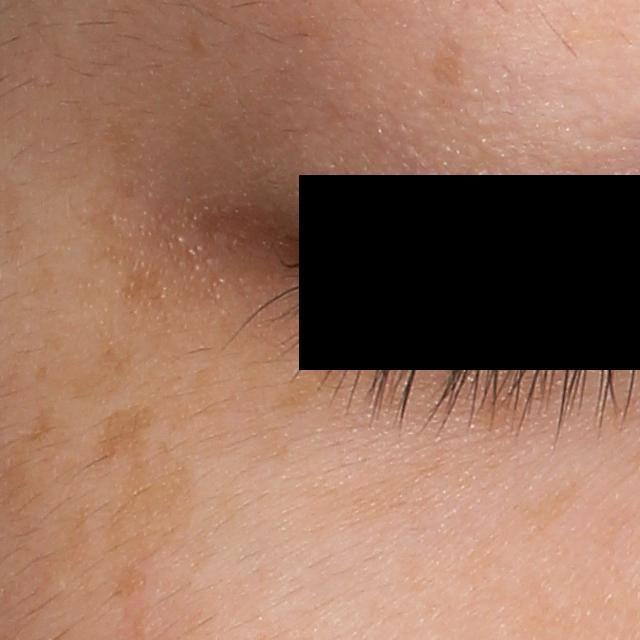melasma: (398, 482, 587, 596), (105, 441, 201, 569), (86, 402, 156, 477), (67, 345, 140, 410), (112, 261, 173, 309), (265, 379, 321, 417), (431, 38, 469, 90), (16, 405, 59, 447)
